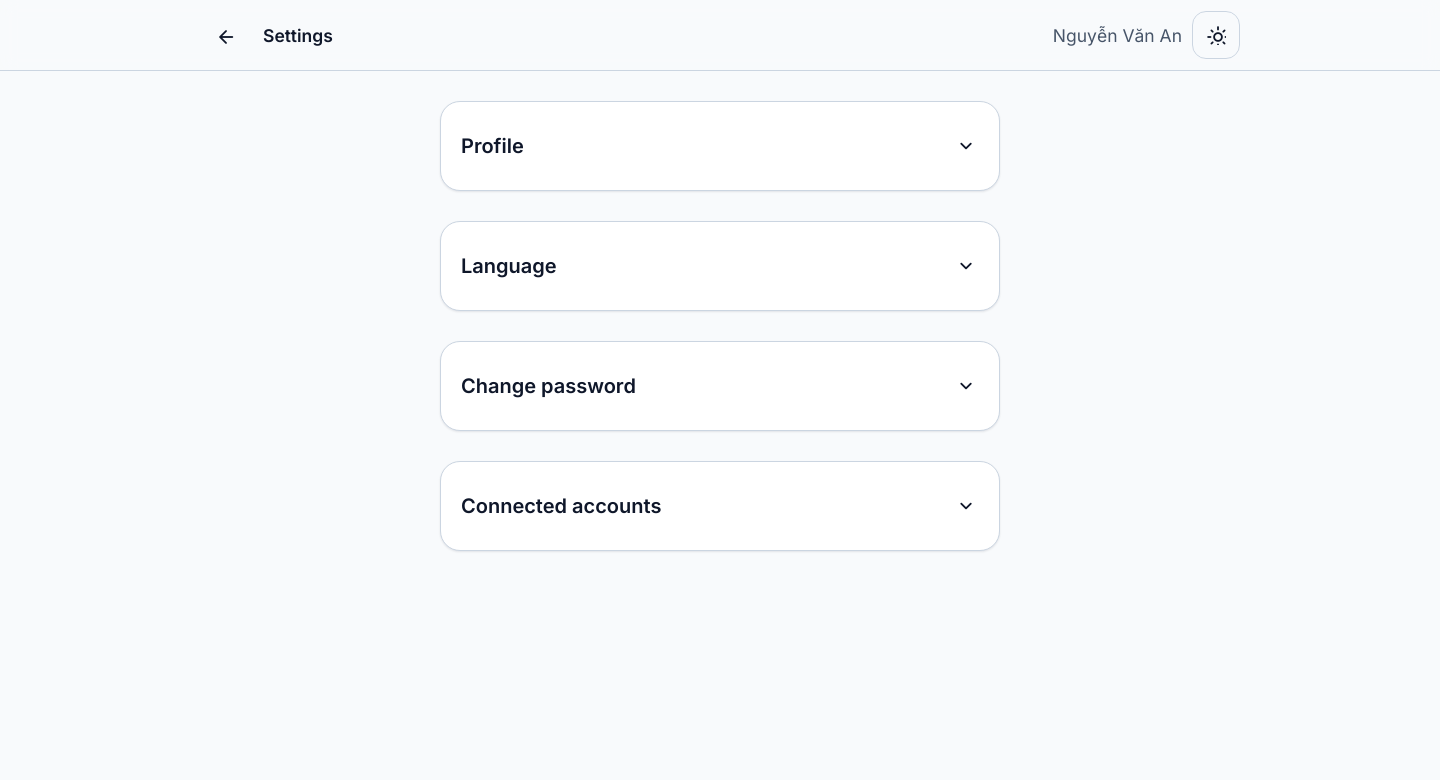
Test: SettingsPage teacher password change › provides password-manager-compatible fields only to teachers
The image size is (1440, 780).
Click the button with aria-label "Change password settings" at (548, 386), box x1=461 y1=362 x2=979 y2=410
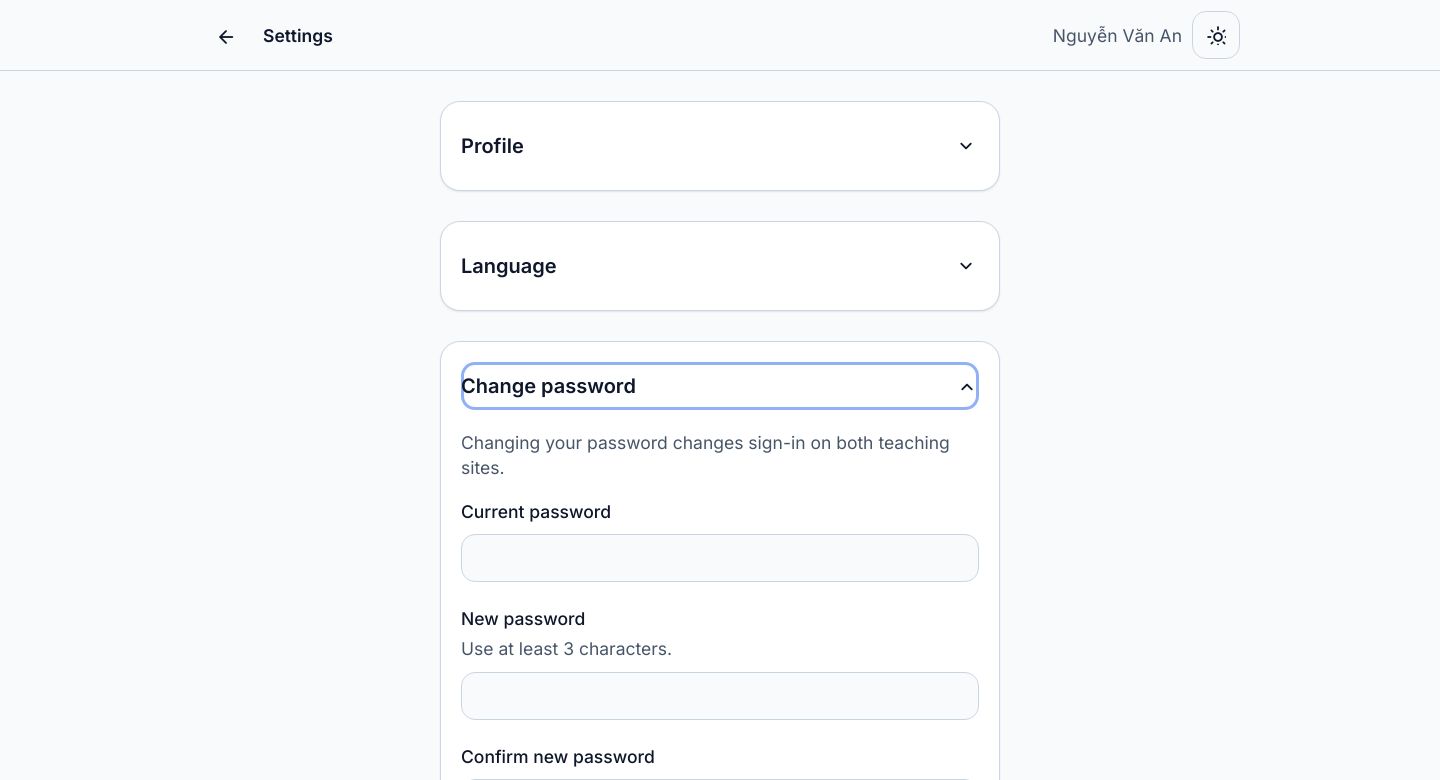
Now the text "Changing your password changes sign-in on both teaching sites." is shown, box x1=461 y1=430 x2=979 y2=480
